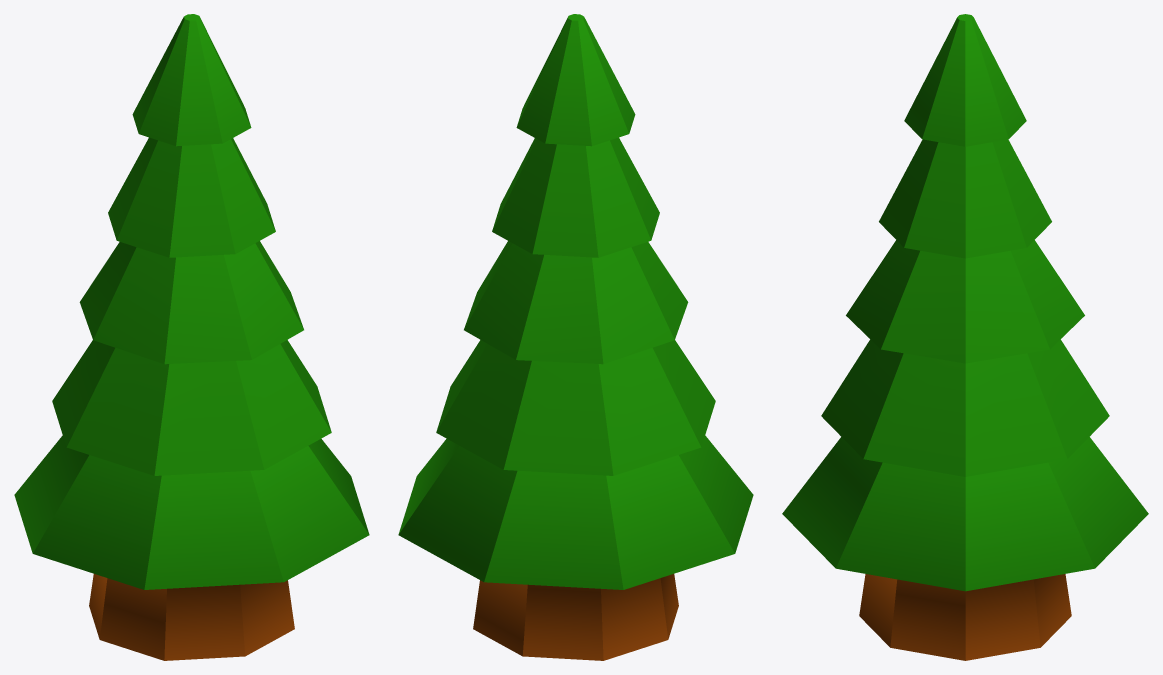
Rendered from tree_1_base.fbx.
3 renders of one model, left to right at view 1: azimuth 30°, elevation 25°; view 2: azimuth 150°, elevation 25°; view 3: azimuth 270°, elevation 25°, orthographic.
Parts seen in each view (by area): view 1: pCylinder3; view 2: pCylinder3; view 3: pCylinder3.
Part boxes in pixels (x1,y1,x2,y2): pCylinder3: (14, 14, 369, 660); pCylinder3: (398, 14, 753, 660); pCylinder3: (782, 14, 1148, 660).
Size of the model in its own units: 2.52 by 4.54 by 2.52.
